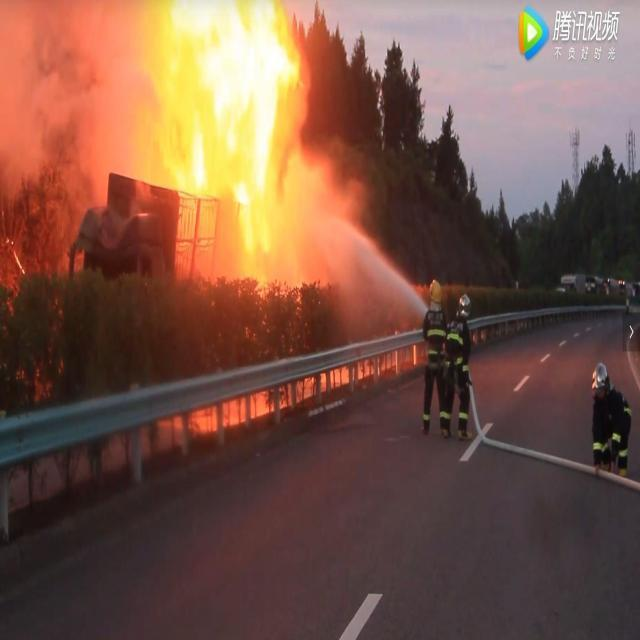Fire: (137, 1, 300, 256)
Smoke: (0, 0, 151, 208), (270, 58, 364, 294)
